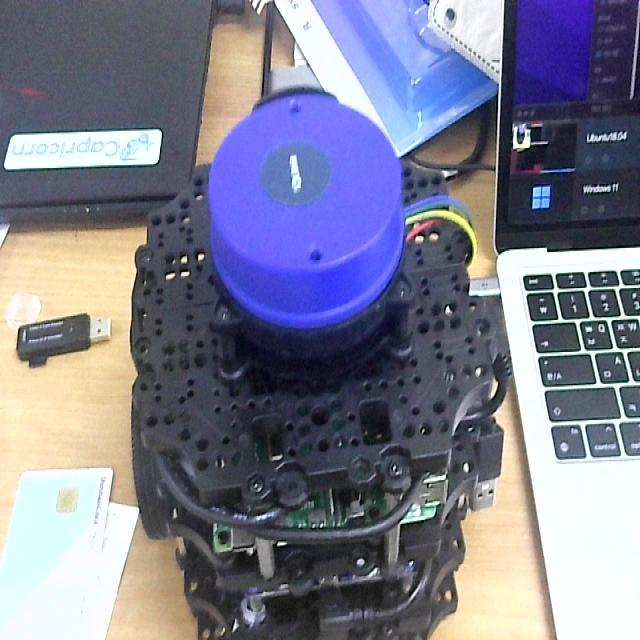turtle: (129, 83, 515, 640)
